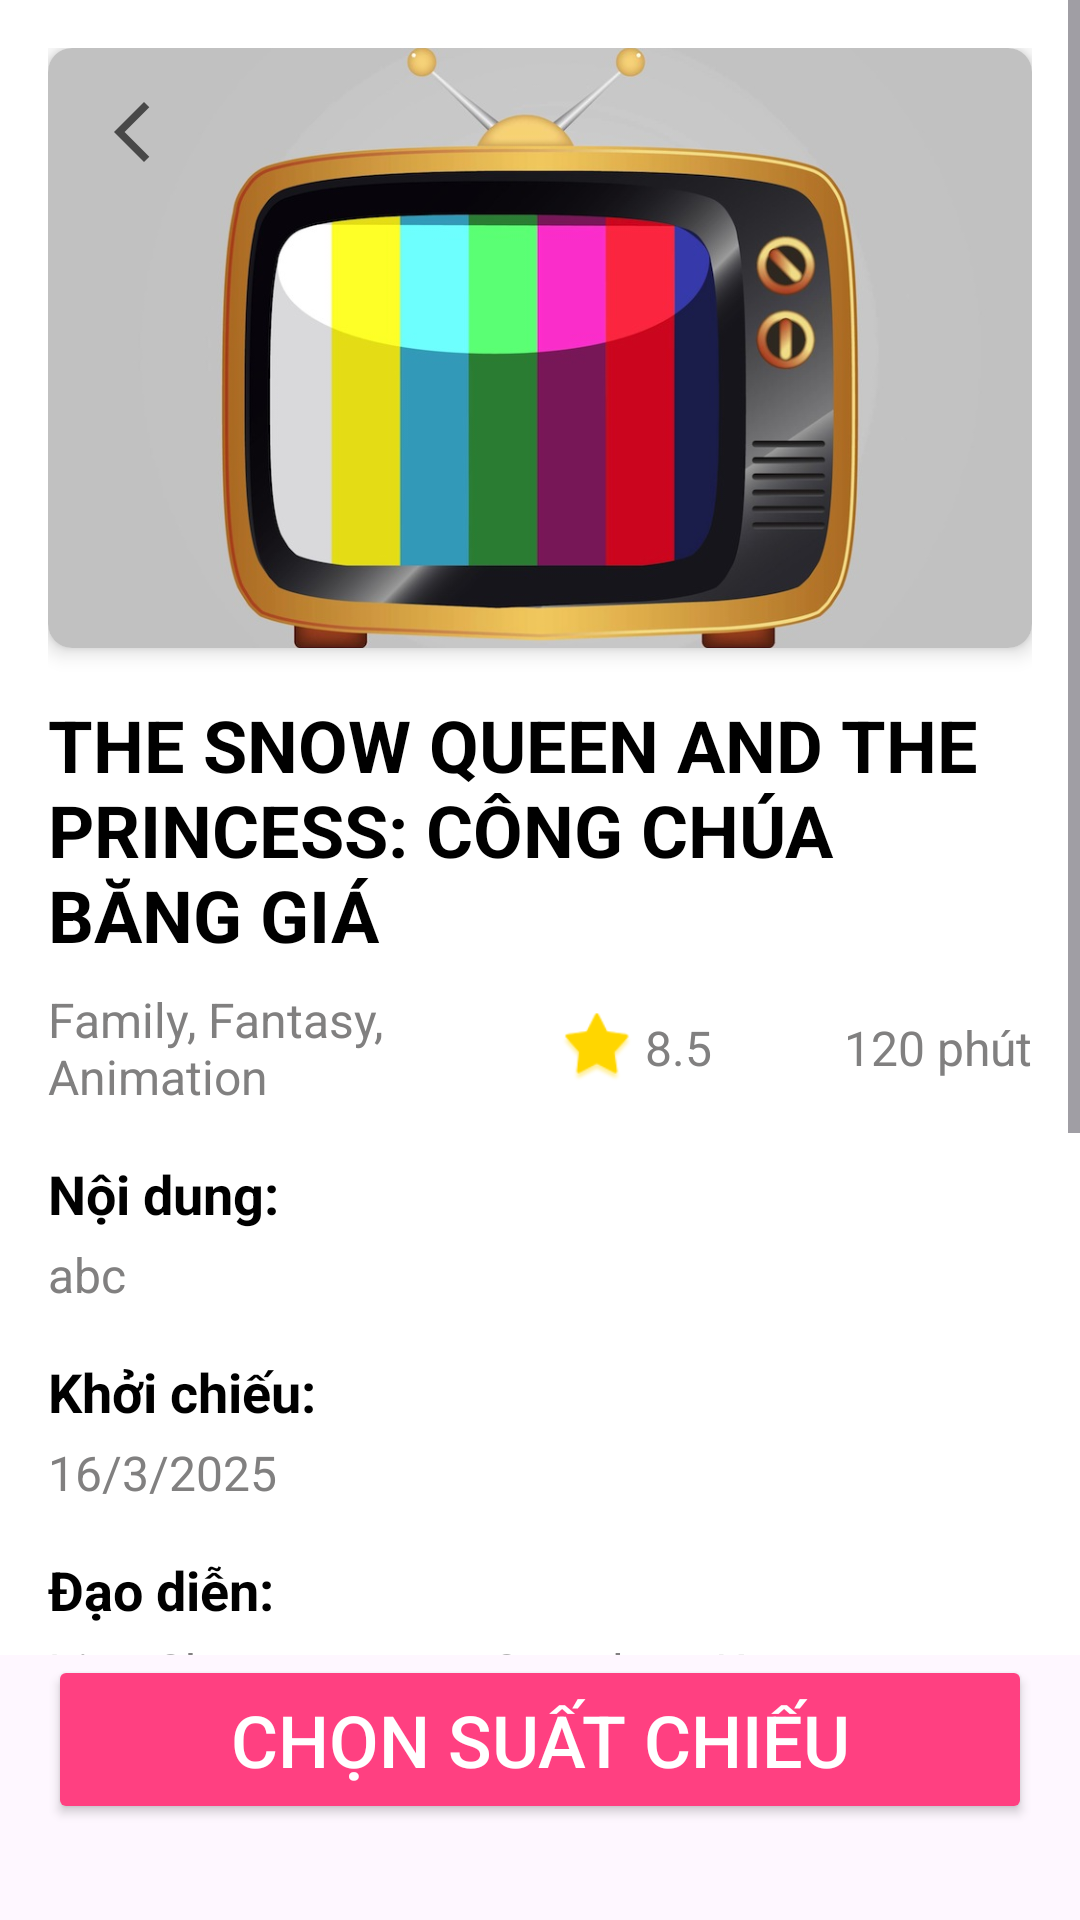

Named icons in this screenshot (1080x1920) and their centers, (x,y):
arrow back: (131,132)
star on: (597,1045)
